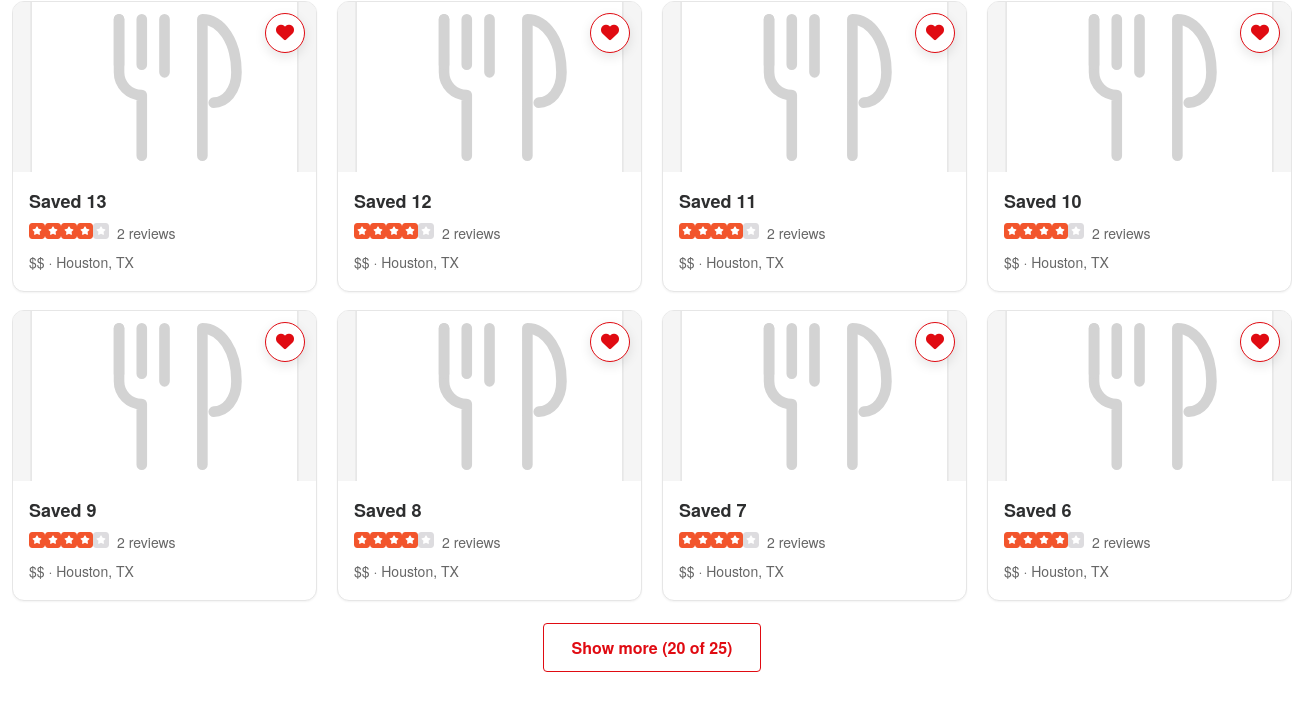
a save made elsewhere meanwhile shows no card twice, and the button still ends
The width and height of the screenshot is (1304, 720).
(page scrolled)
Step 1. Click the button "Show more (20 of 25)" → (652, 648), box [543,623,762,672]
(page scrolled)
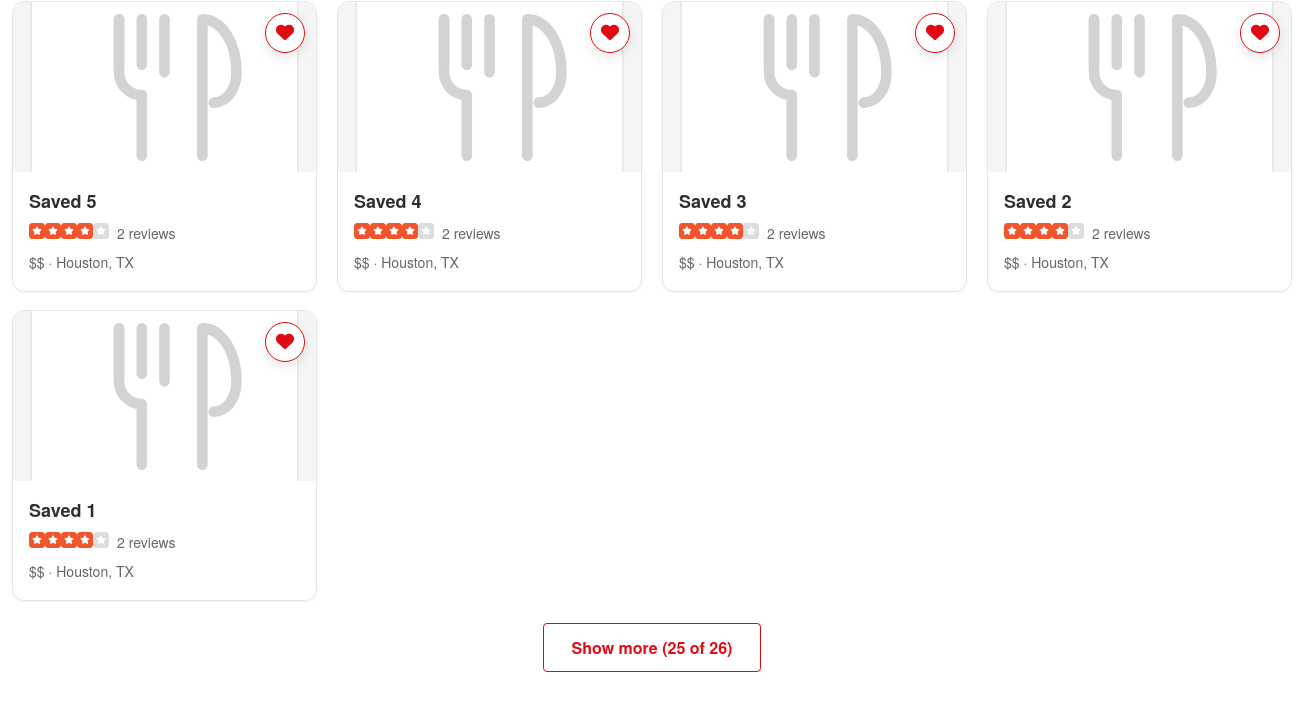
Step 2. Click the button "Show more (25 of 26)" → (652, 648), box [543,623,762,672]
(page scrolled)
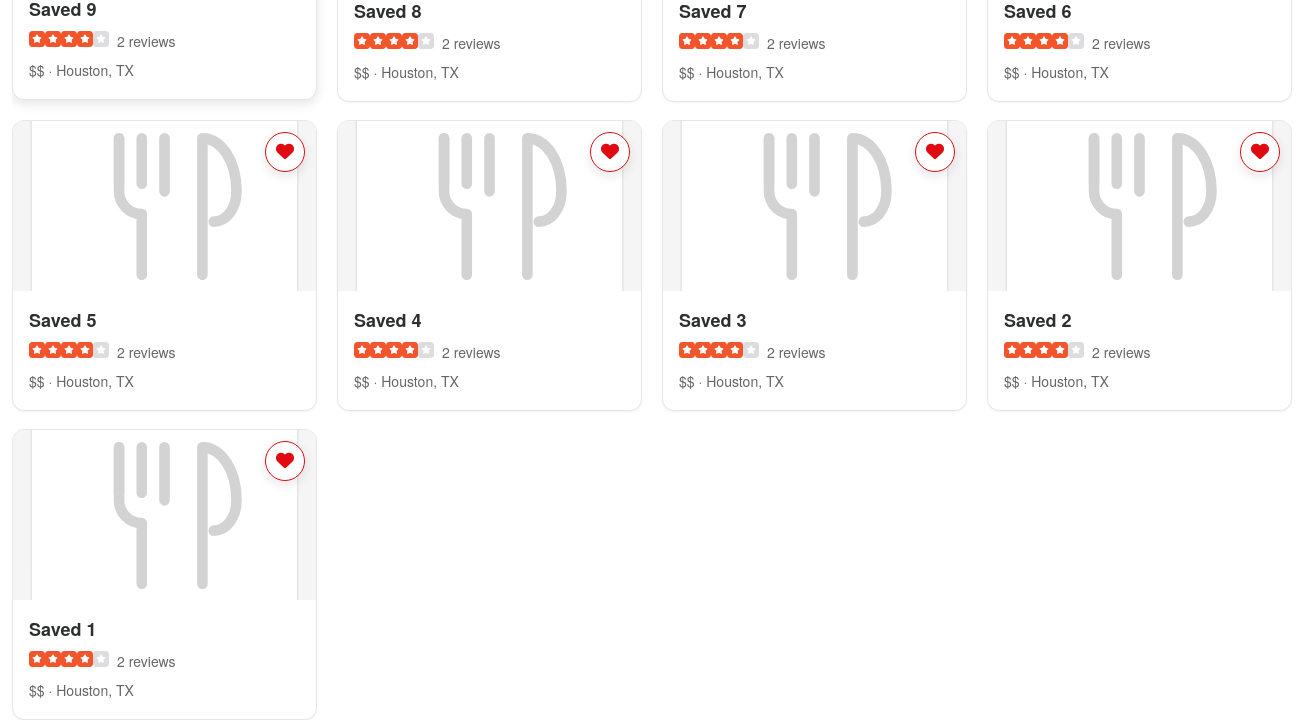
Result: the button "Show more (25 of 26)" is gone
